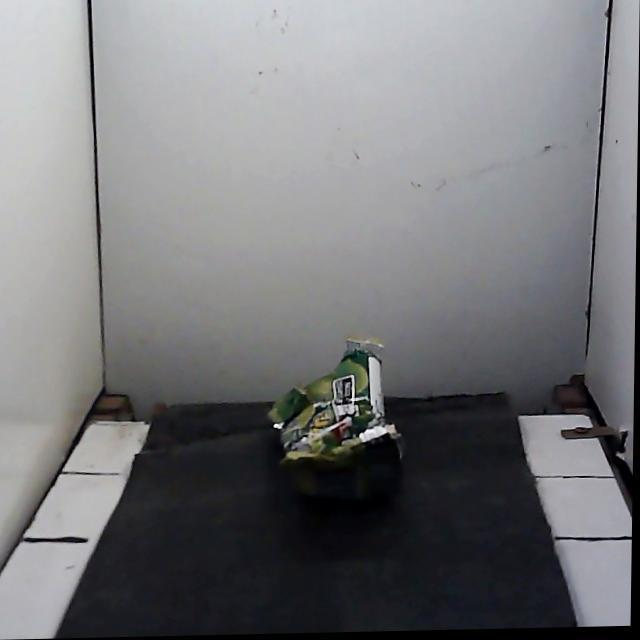plastico: (268, 340, 402, 497)
